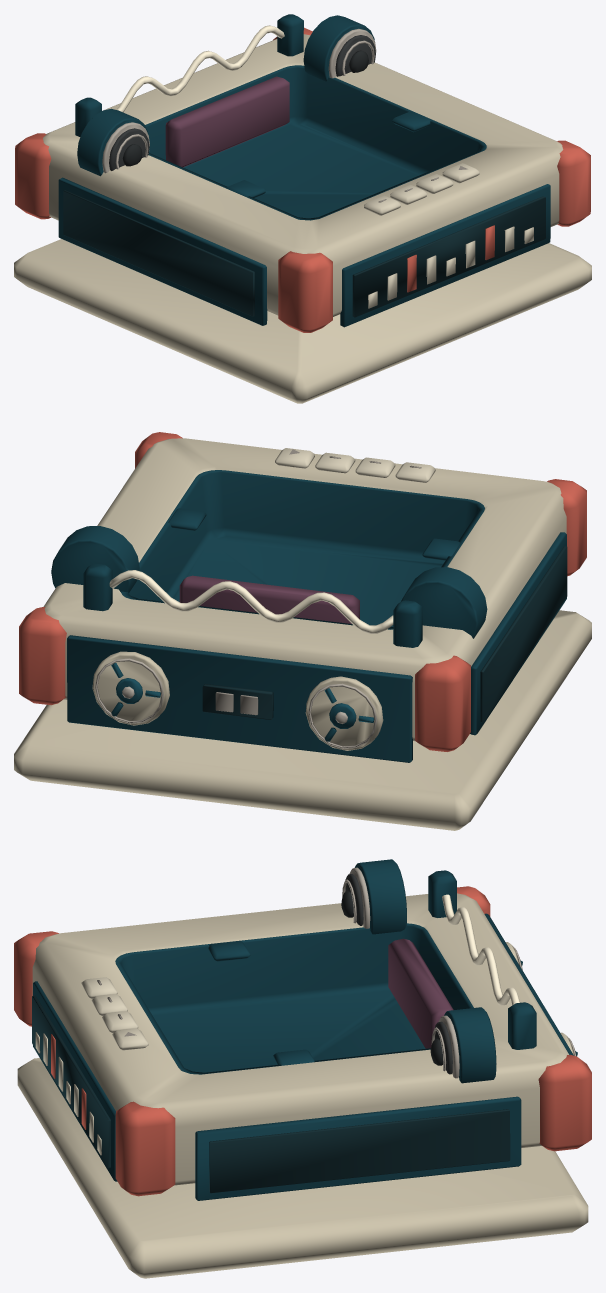
Rendered from kart.body.feedback.glb.
3 renders of one model, top to bottom at view 1: azimuth 30°, elevation 25°; view 2: azimuth 150°, elevation 25°; view 3: azimuth 270°, elevation 25°, orthographic. The views are drawn at different scales.
Visible parts, largest first — view 1: emi_vehicle_feedback; view 2: emi_vehicle_feedback; view 3: emi_vehicle_feedback.
Boxes of the visible parts, bbox=[...] form: emi_vehicle_feedback: bbox=[14, 14, 591, 403]; emi_vehicle_feedback: bbox=[14, 432, 591, 830]; emi_vehicle_feedback: bbox=[14, 859, 591, 1278].
Bounding box in the file's own units: 0.474 × 0.1947 × 0.48.
